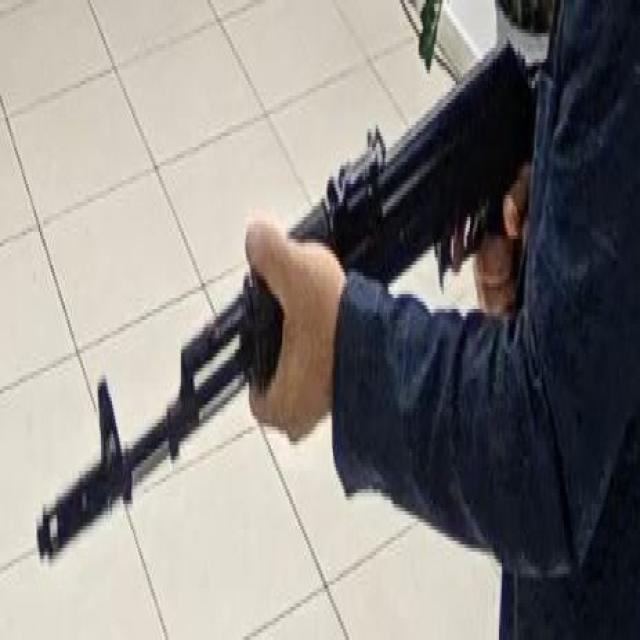-Gun: (43, 39, 536, 560)
